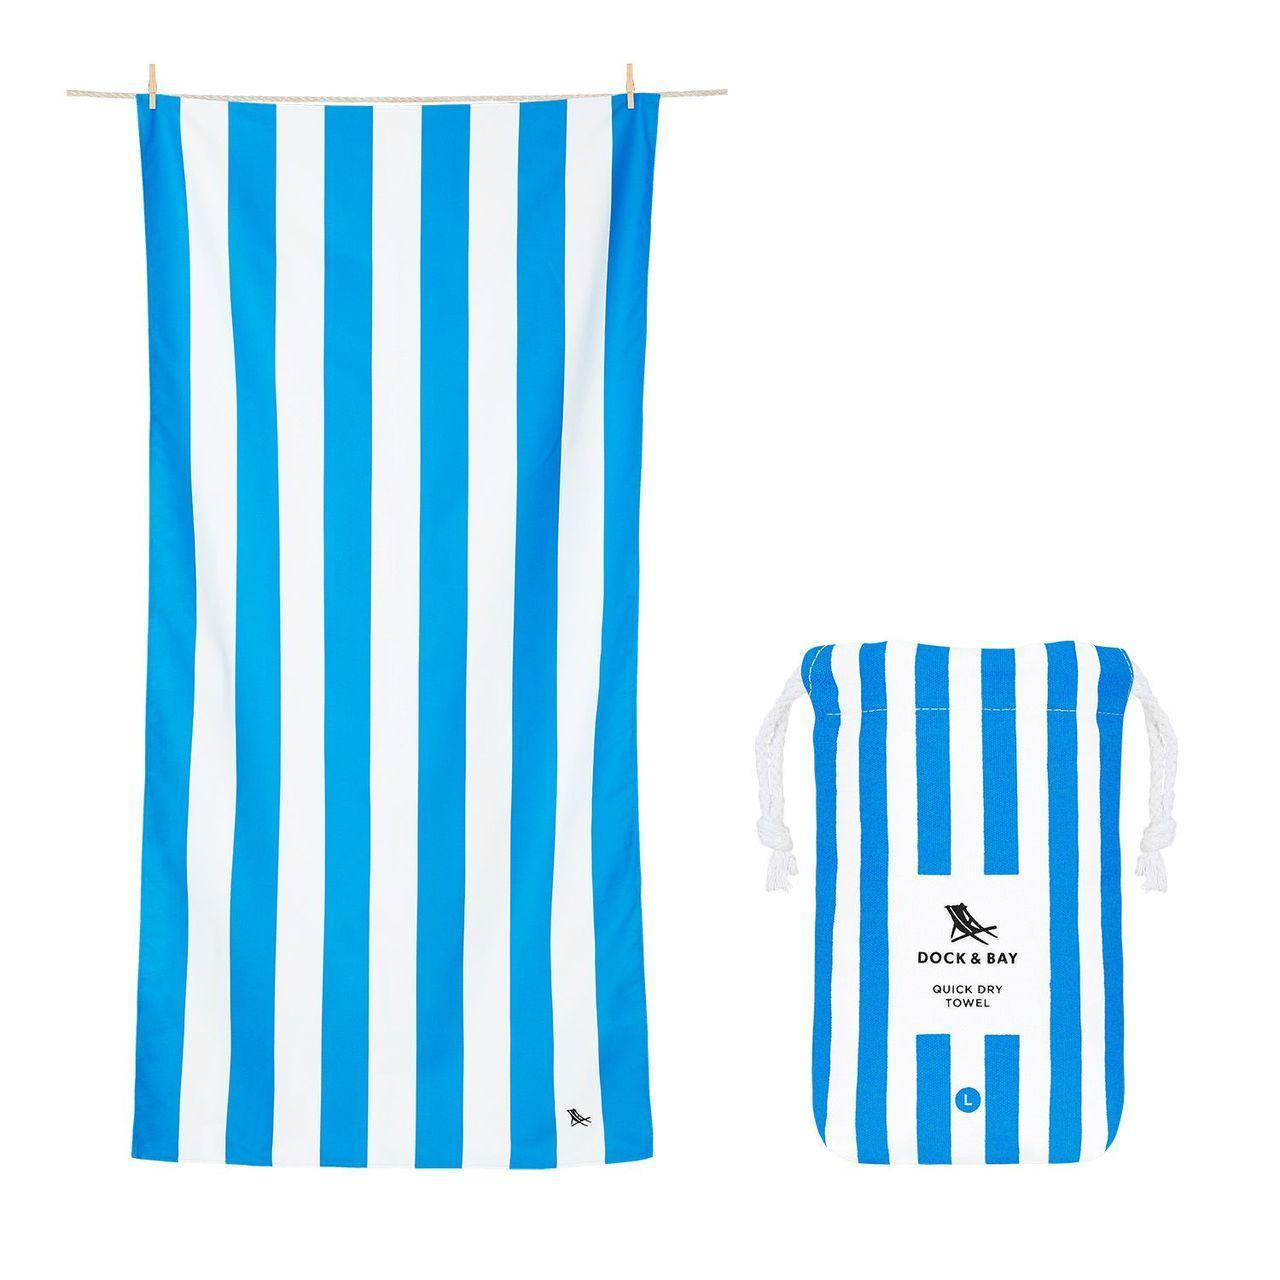towel: (130, 94, 667, 1170)
